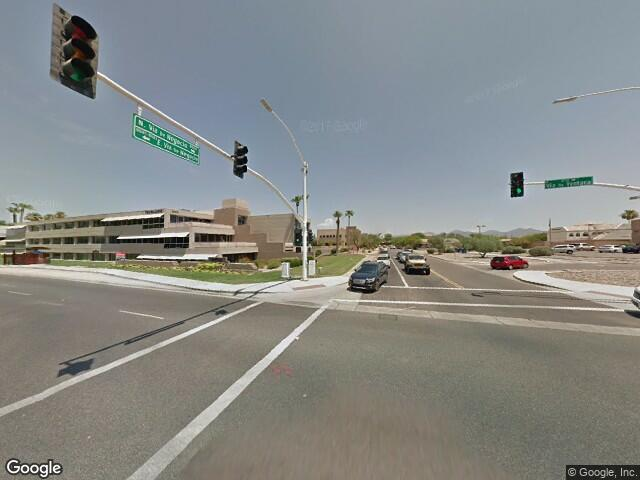c: (277, 276, 336, 293)
l: (1, 298, 330, 480), (330, 280, 624, 312)
